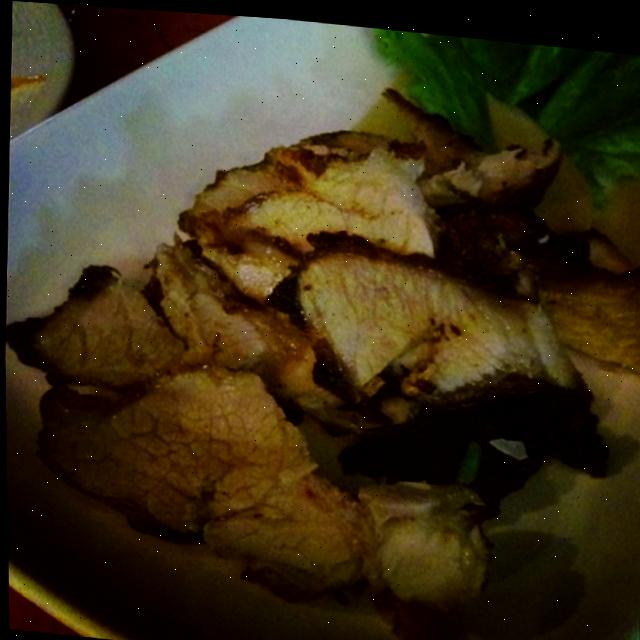猪肉菜式: (5, 42, 625, 640)
